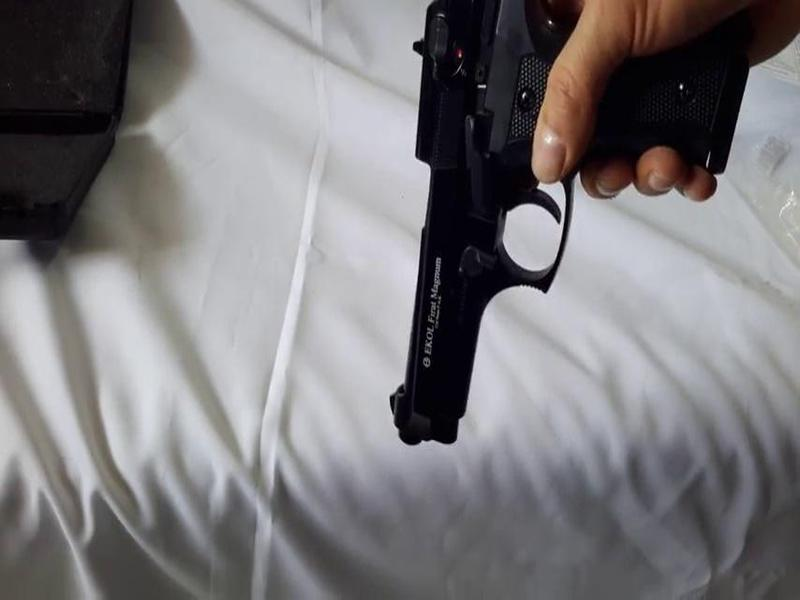Pistola: (374, 1, 759, 466)
